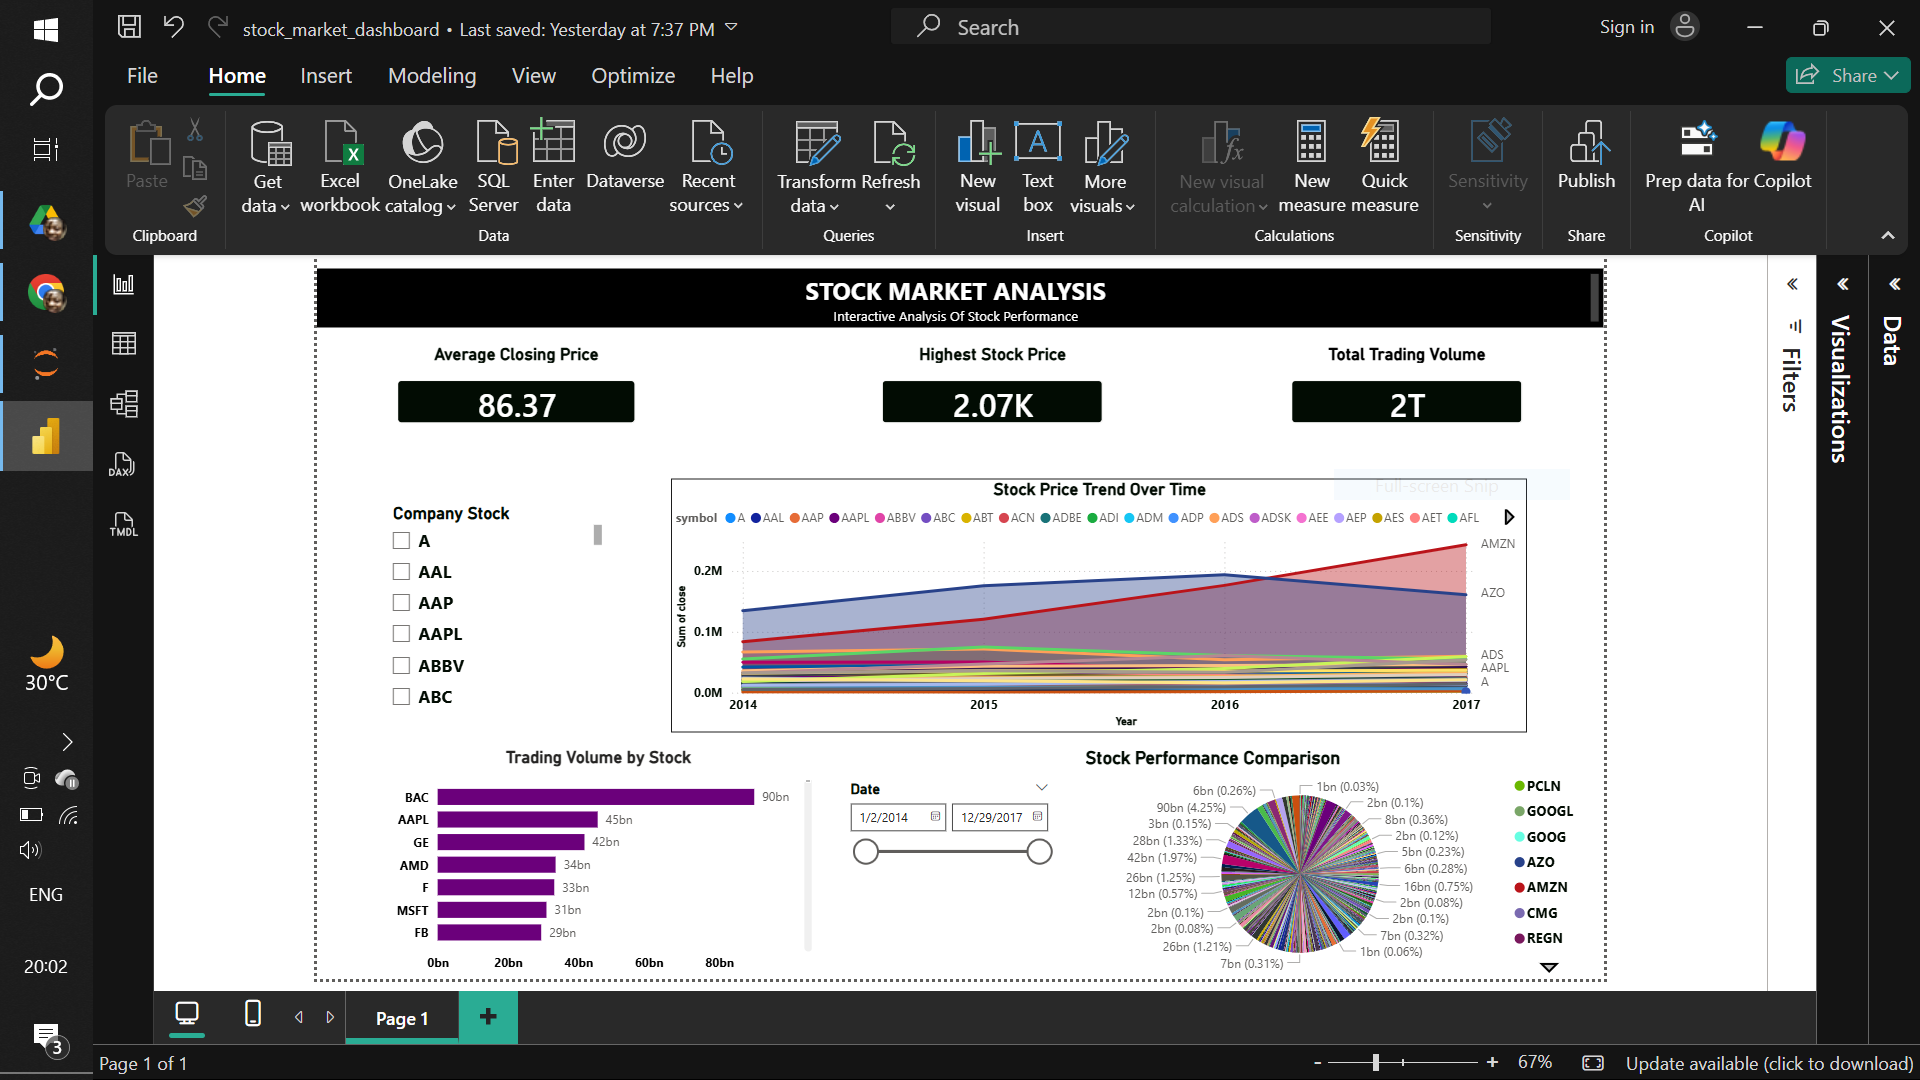

The page's visual inventory and layout, read from the dashboard file:
{"tool":"powerbi","page":{"name":"Page 1","canvas":[1280,720],"ordinal":0},"visuals":[{"type":"areaChart","title":"Stock Price Trend Over Time","fields":{"Category":["Stock_Prices_Dataset.date.Variation.Date Hierarchy.Year","Stock_Prices_Dataset.date.Variation.Date Hierarchy.Quarter","Stock_Prices_Dataset.date.Variation.Date Hierarchy.Month","Stock_Prices_Dataset.date.Variation.Date Hierarchy.Day"],"Y":["Sum(Stock_Prices_Dataset.close)"],"Series":["Stock_Prices_Dataset.symbol"]},"box":[351.3,222.2,853,251.6],"z":0},{"type":"clusteredBarChart","title":"Trading Volume by Stock","fields":{"Category":["Stock_Prices_Dataset.symbol"],"Y":["Sum(Stock_Prices_Dataset.volume)"]},"box":[62.1,488.6,434.7,232],"z":1000},{"type":"cardVisual","title":"Average Closing Price","fields":{"Data":["Avg(Stock_Prices_Dataset.close)"]},"box":[62.1,88.2,271.3,96.4],"z":2000},{"type":"cardVisual","title":"Highest Stock Price","fields":{"Data":["Max(Stock_Prices_Dataset.high)"]},"box":[544.1,88.2,254.9,96.4],"z":3000},{"type":"cardVisual","title":"Total Trading Volume","fields":{"Data":["Sum(Stock_Prices_Dataset.volume)"]},"box":[951,88.2,264.7,96.4],"z":4000},{"type":"slicer","fields":{"Values":["Stock_Prices_Dataset.symbol"]},"box":[62.1,241.8,225.5,212.4],"z":5000},{"type":"slicer","fields":{"Values":["Stock_Prices_Dataset.date"]},"box":[518,518,222.2,176.5],"z":6000},{"type":"pieChart","title":"Stock Performance Comparison","fields":{"Y":["Sum(Stock_Prices_Dataset.open)","Sum(Stock_Prices_Dataset.close)","Sum(Stock_Prices_Dataset.volume)"],"Category":["Stock_Prices_Dataset.symbol"]},"box":[759.8,488.6,504.9,232],"z":7000},{"type":"textbox","box":[0,13.1,1279.5,58.8],"z":8000}]}

Visuals, with their boxes on the page's 1280x720 design canvas (x1, y1, x2, y2). These are canvas units, not pixel positions in the 1920x1080 screenshot, which may show the page scaled, cropped or inside an application window:
"Stock Price Trend Over Time" areaChart: (351,222,1204,474)
"Trading Volume by Stock" clusteredBarChart: (62,489,497,721)
"Average Closing Price" cardVisual: (62,88,333,185)
"Highest Stock Price" cardVisual: (544,88,799,185)
"Total Trading Volume" cardVisual: (951,88,1216,185)
slicer - Stock_Prices_Dataset.symbol: (62,242,288,454)
slicer - Stock_Prices_Dataset.date: (518,518,740,694)
"Stock Performance Comparison" pieChart: (760,489,1265,721)
textbox: (0,13,1280,72)
